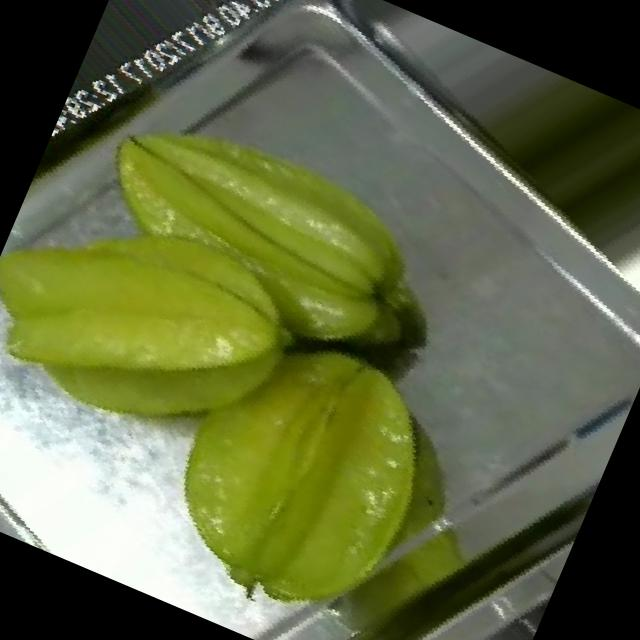fruit: (0, 62, 399, 556), (92, 239, 546, 640)
